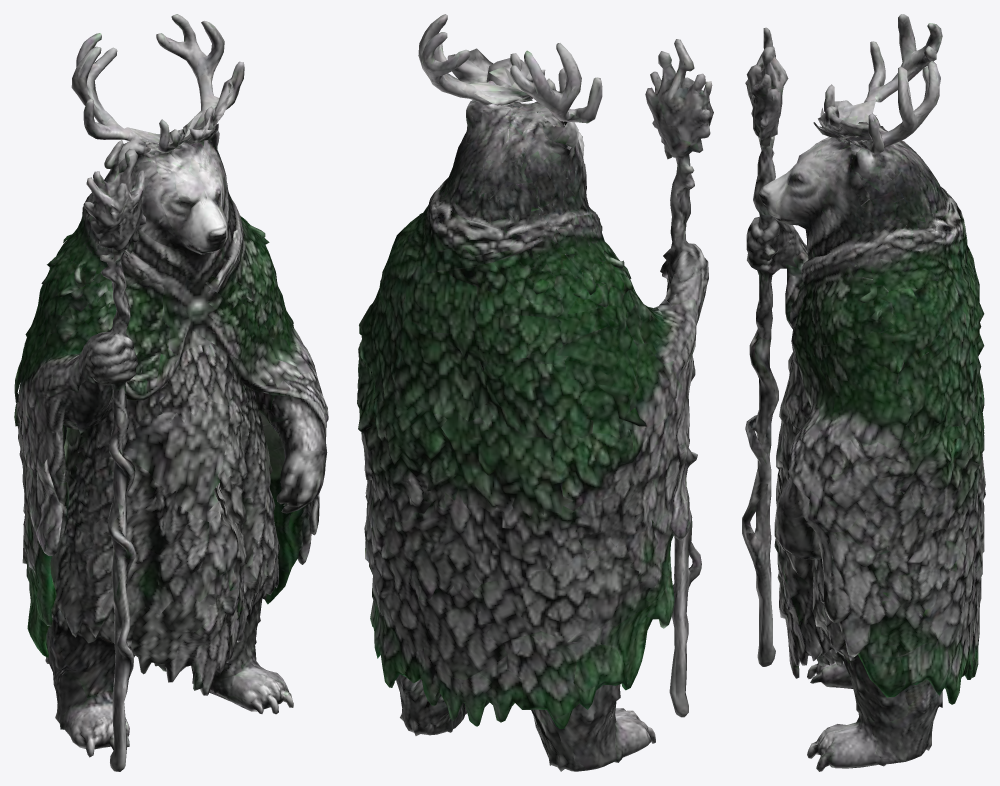
The model's file is Druid_Bear.glb.
3 renders of one model, left to right at view 1: azimuth 30°, elevation 25°; view 2: azimuth 150°, elevation 25°; view 3: azimuth 270°, elevation 25°, orthographic. The views are drawn at different scales.
Size of the model in its own units: 0.8415 by 1.91 by 0.6184.
1 material, 1 textured.
